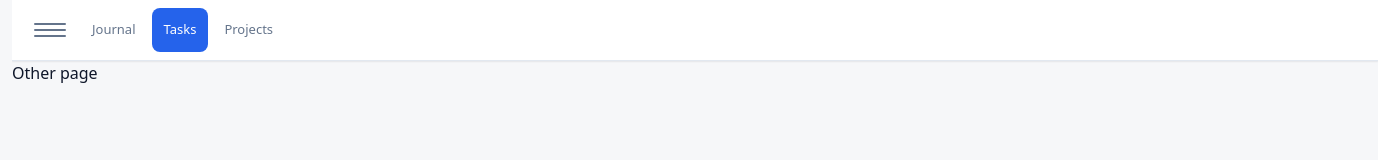
Test case: Nav › navigates when a link is clicked
Click the link "Projects" at (249, 29), box [224, 20, 273, 38]
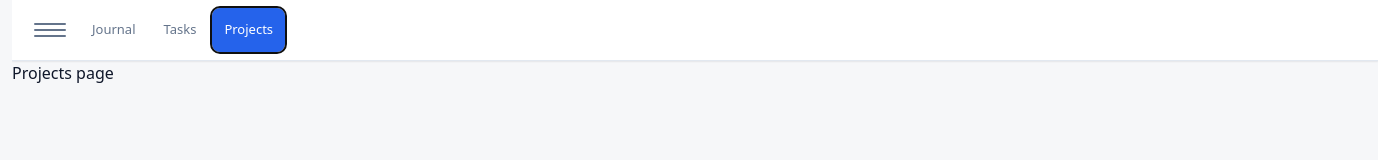
Check: the text "Projects page" is shown, box [12, 62, 114, 84]
